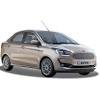Ford: (1, 28, 98, 77)
